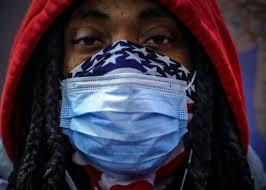Wearing Mask: (30, 1, 215, 178)
